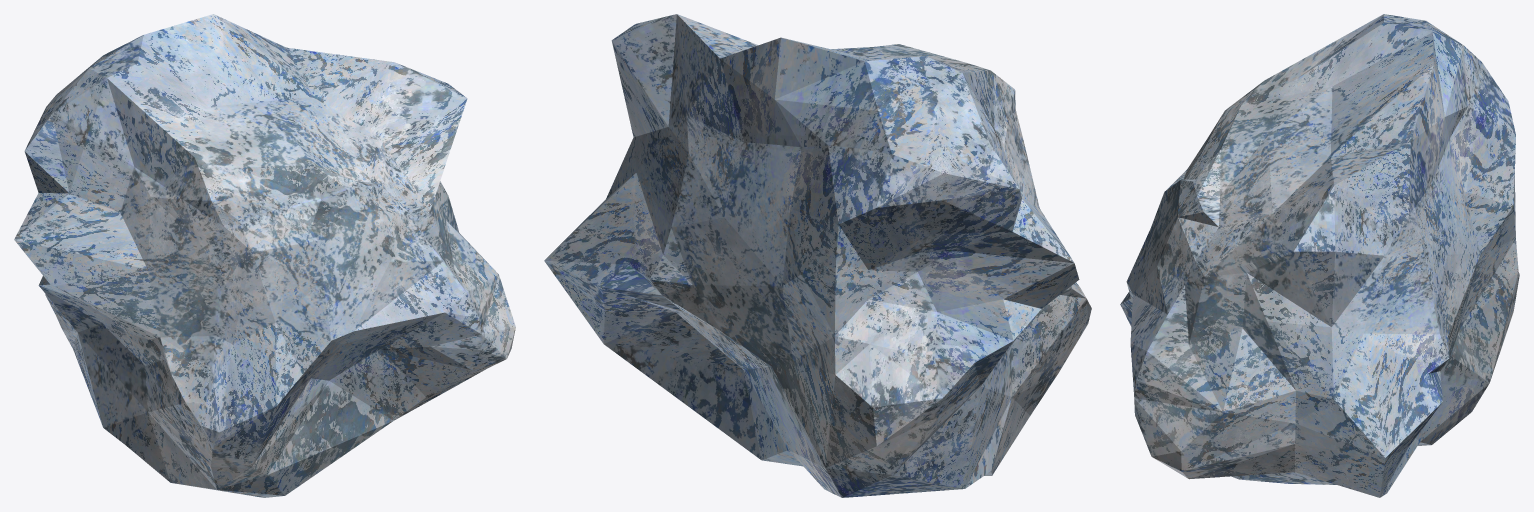
File: asteroid_ice_small_s02_l0.fbx
The picture shows the model from 3 angles, left to right: view 1: azimuth 30°, elevation 25°; view 2: azimuth 150°, elevation 25°; view 3: azimuth 270°, elevation 25°; orthographic projection. The views are drawn at different scales.
Parts seen in each view (by area): view 1: mesh_node; view 2: mesh_node; view 3: mesh_node.
Part boxes in pixels (x1=…): mesh_node: x1=14, y1=14, x2=515, y2=497; mesh_node: x1=544, y1=14, x2=1091, y2=497; mesh_node: x1=1120, y1=14, x2=1519, y2=497.
Size of the model in its own units: 22.35 by 19.7 by 16.23.
1 material, 1 textured.
